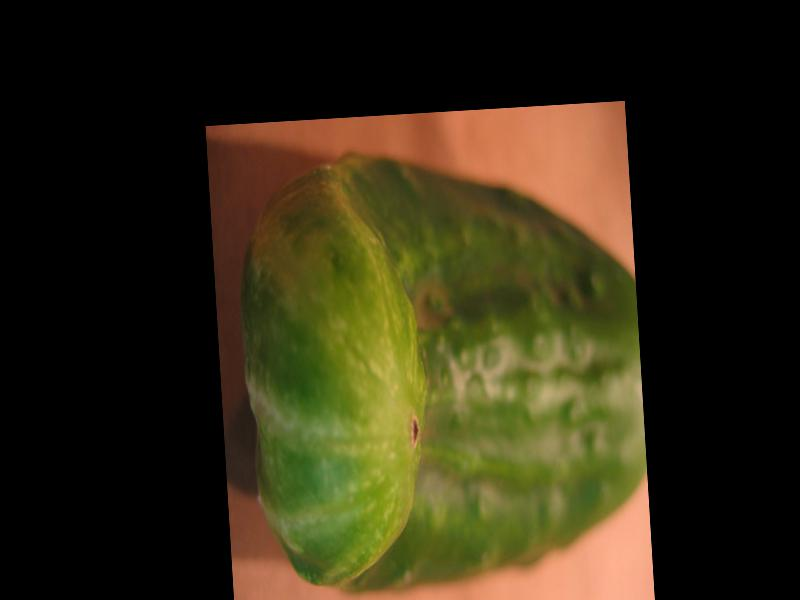Cucumber: (233, 140, 652, 600)
